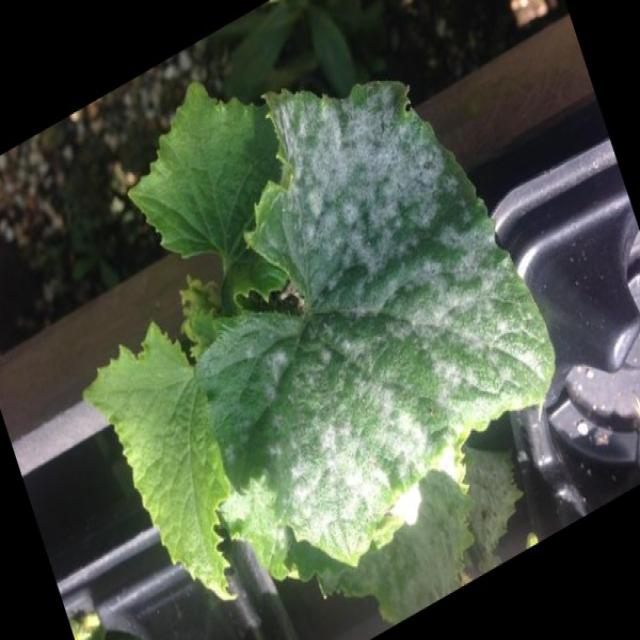Powdery Mildew: (245, 131, 521, 535)
